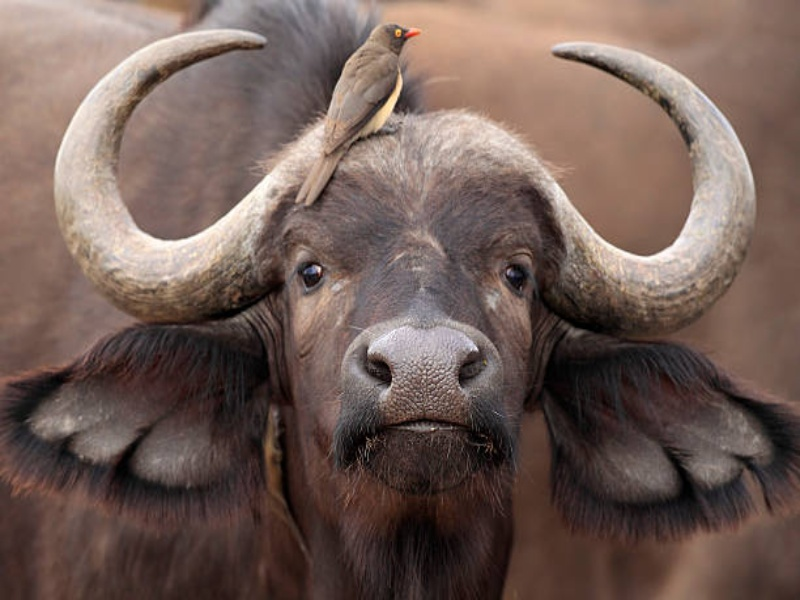buffalo: (68, 27, 772, 585)
